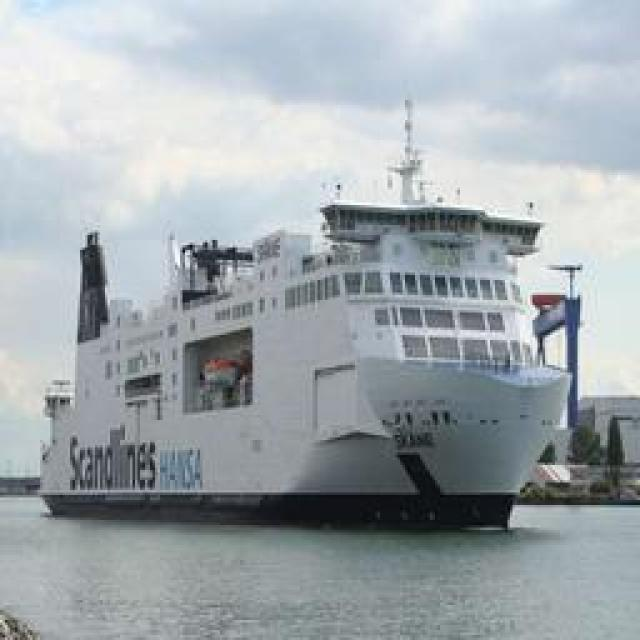CIV_Ship: (32, 156, 582, 519)
